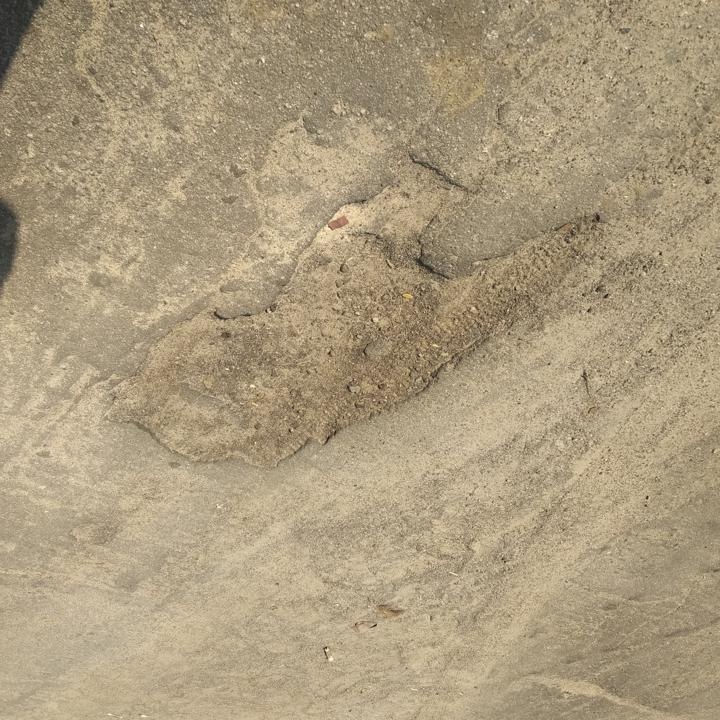pothole: (97, 149, 610, 476)
